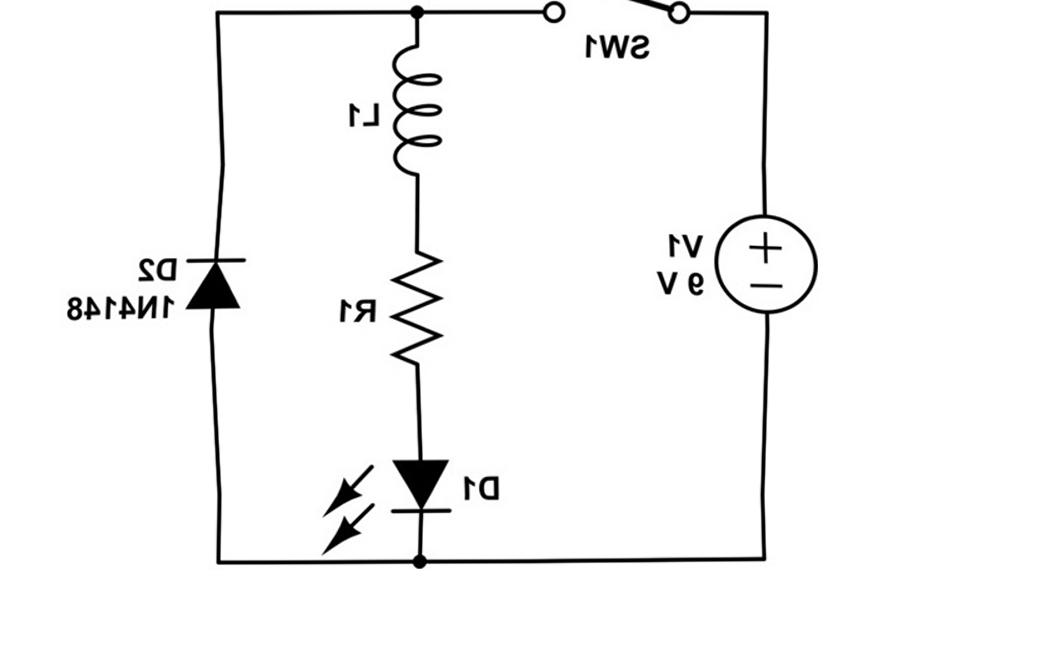Battery: (700, 199, 836, 328)
